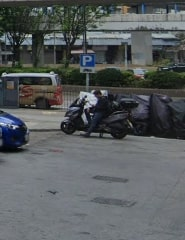Parking: (80, 51, 96, 76)
